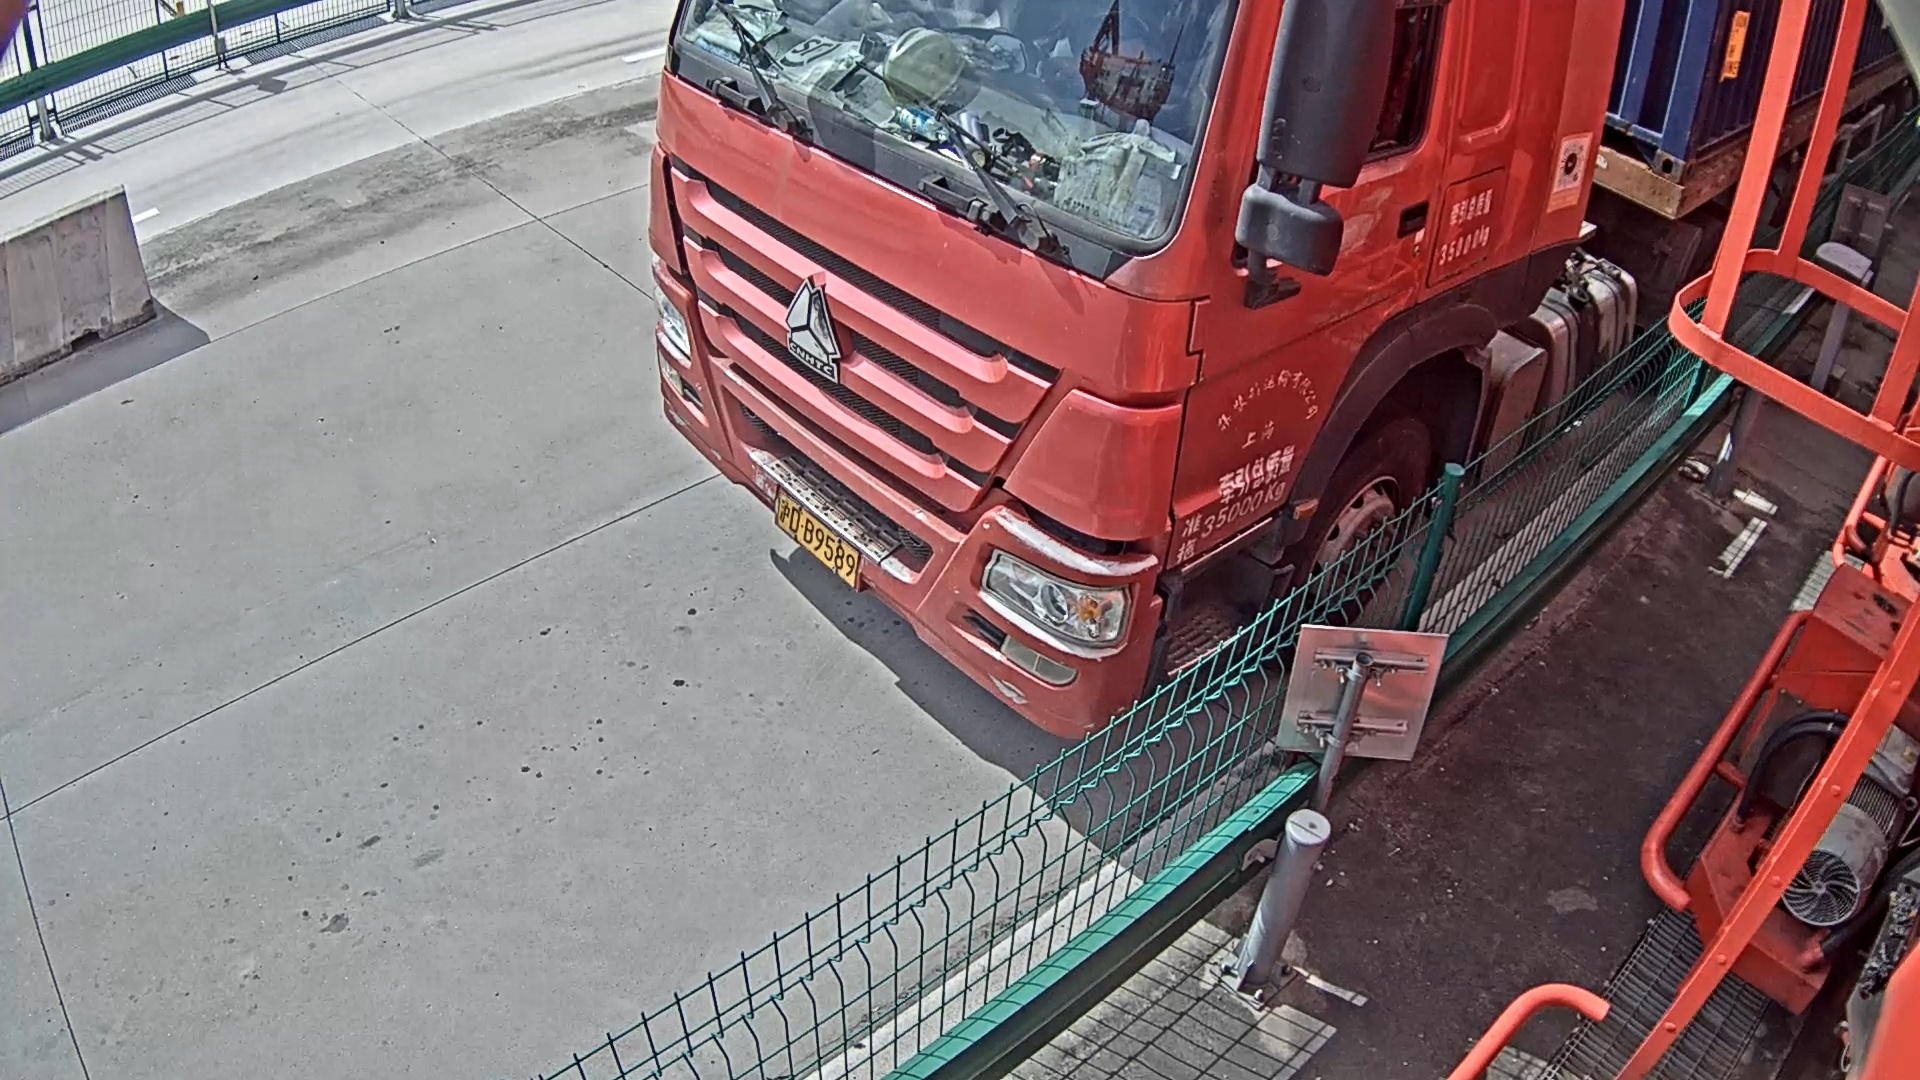head: (652, 1, 1611, 724)
plate: (772, 485, 858, 584)
